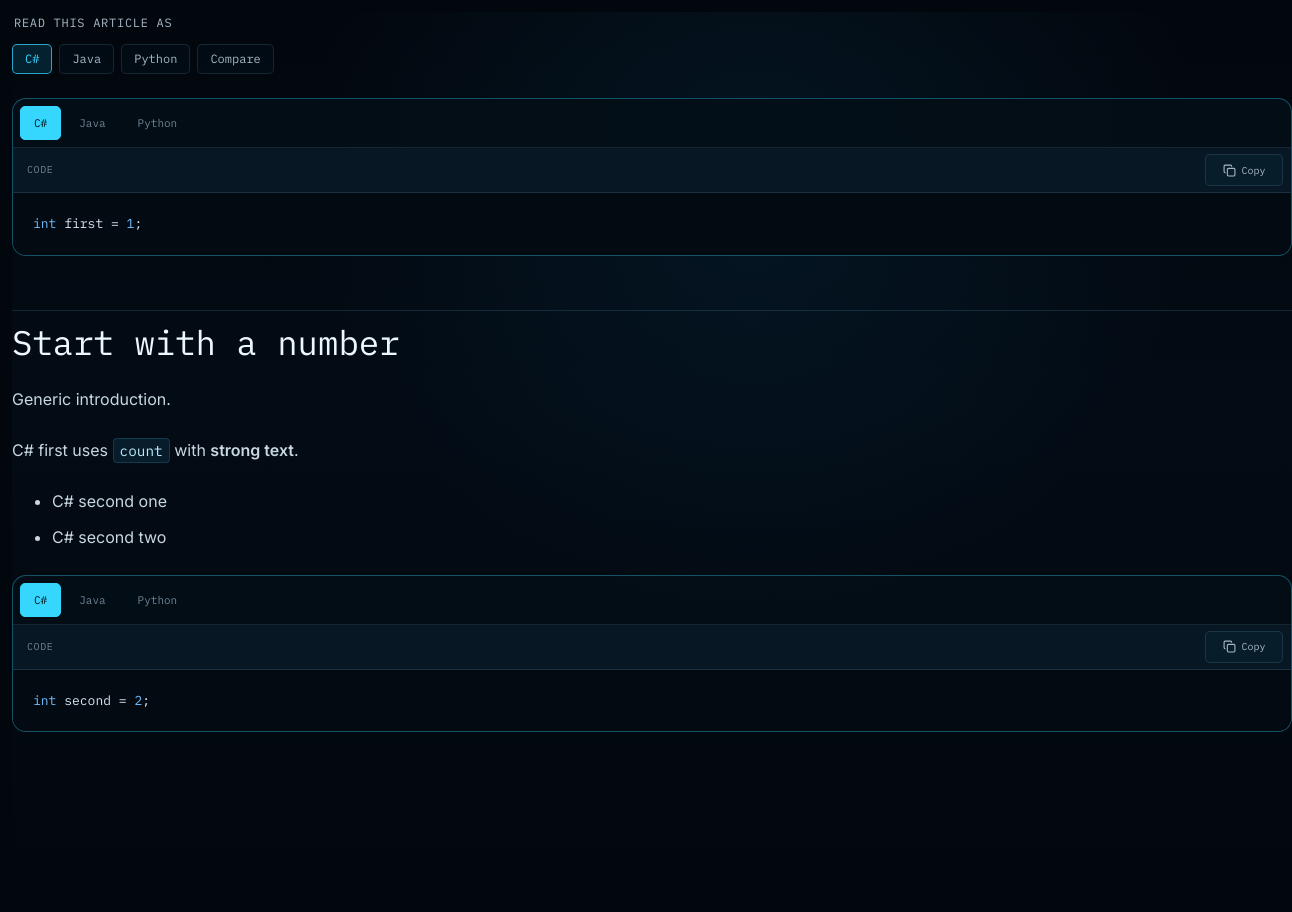
Markdown writing rendering › synchronizes language-aware code tabs with Read As and language-content
The image size is (1292, 912).
Expected: the number of elements "Read this article as" is 1, [12,15,274,74]
Expected: the number of tabs "C#" is 2, [20,106,61,140]; [20,583,61,617]
Click the 1st tab "Java": (92, 123) [65,106,120,140]
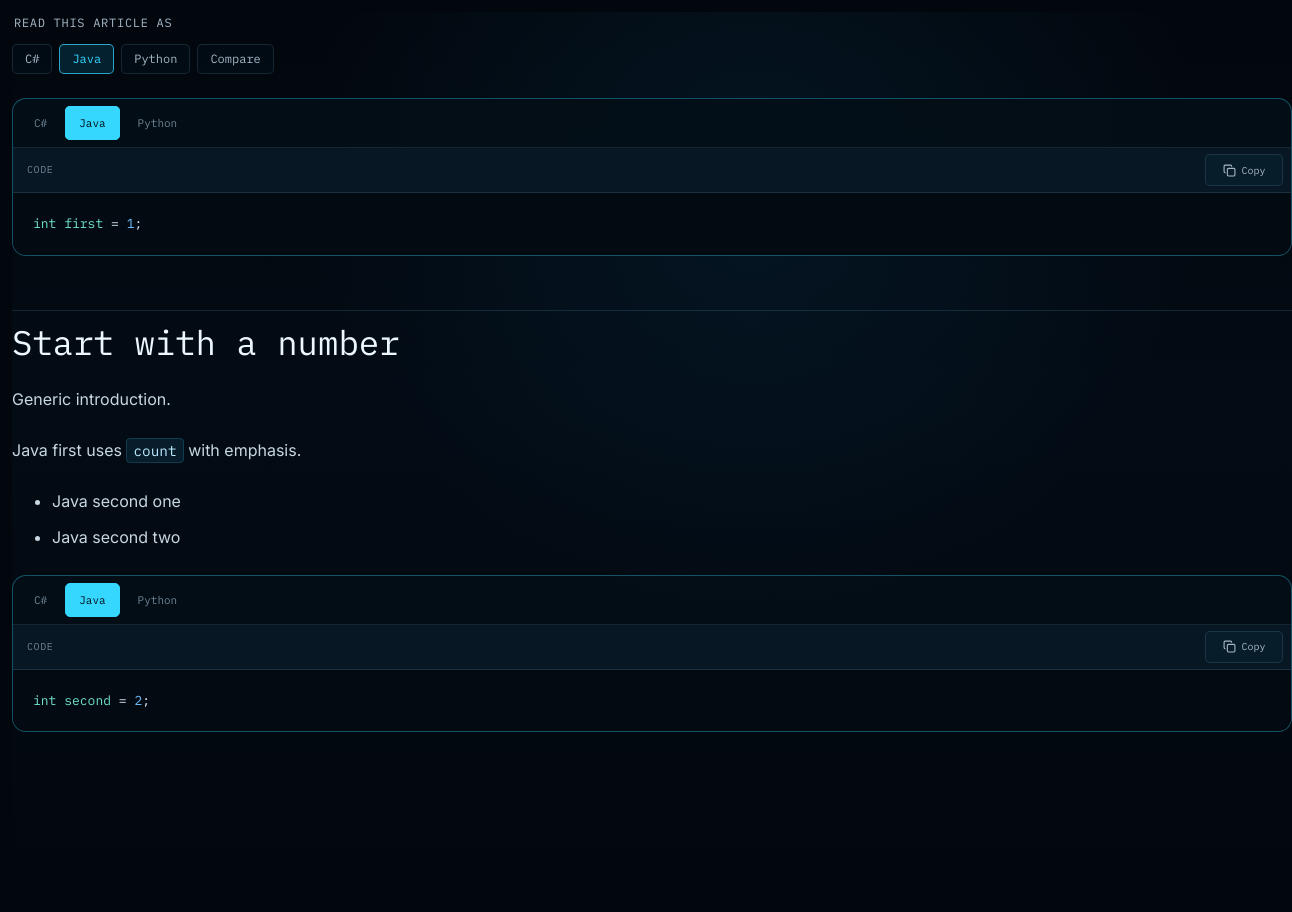
Expected: the number of tabs "Java" is 2, [65,106,120,140]; [65,583,120,617]
Expected: the radio button labelled "Java" is checked, [59,44,114,74]
Expected: the text "Java first uses count with emphasis." is shown, [12,438,301,463]
Click the radio button labelled "Python": (156, 59) [121,44,190,74]
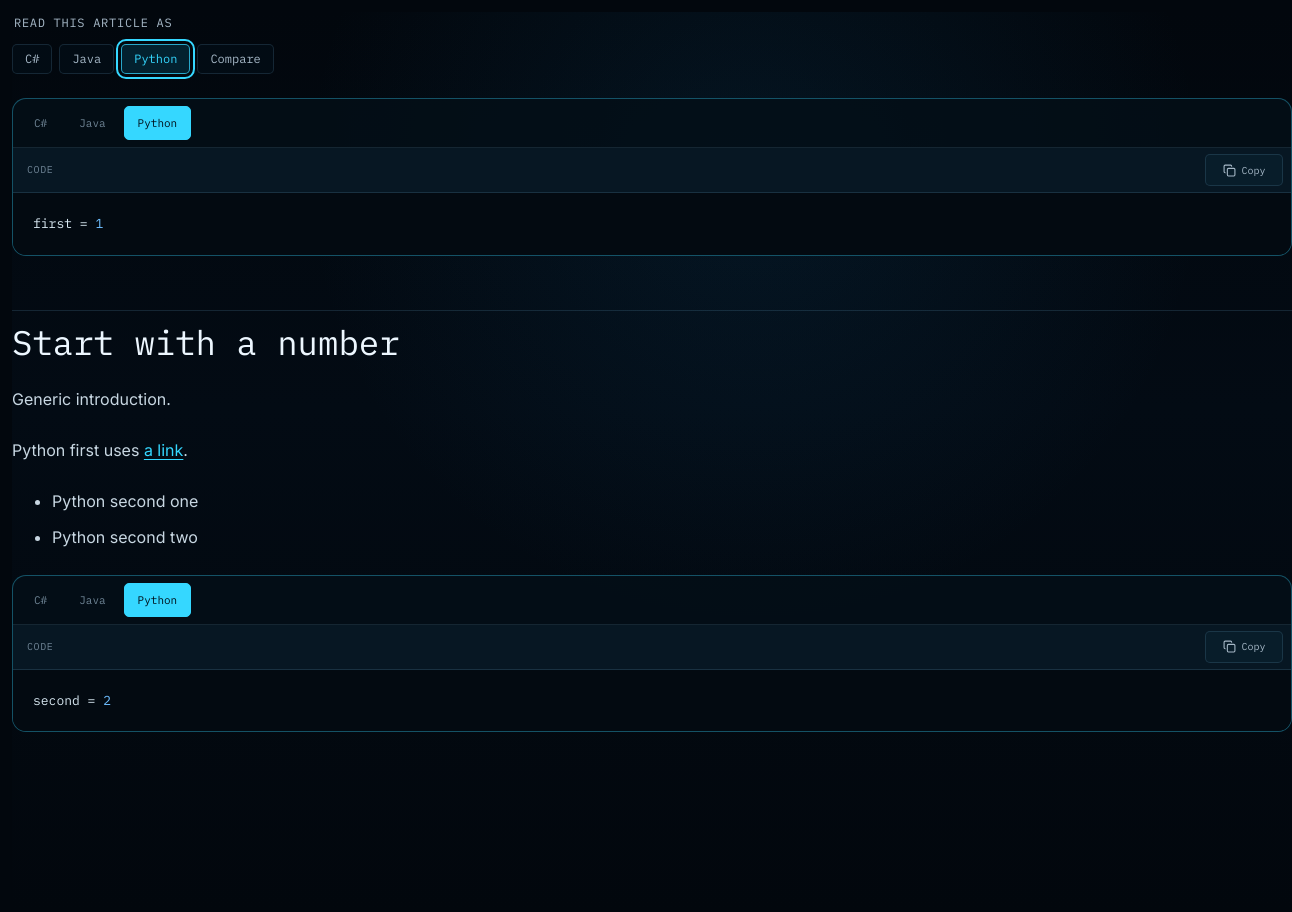
Expected: the number of tabs "Python" is 2, [124,106,191,140]; [124,583,191,617]
Expected: the text "Python first uses a link ." is shown, [12,440,188,460]
